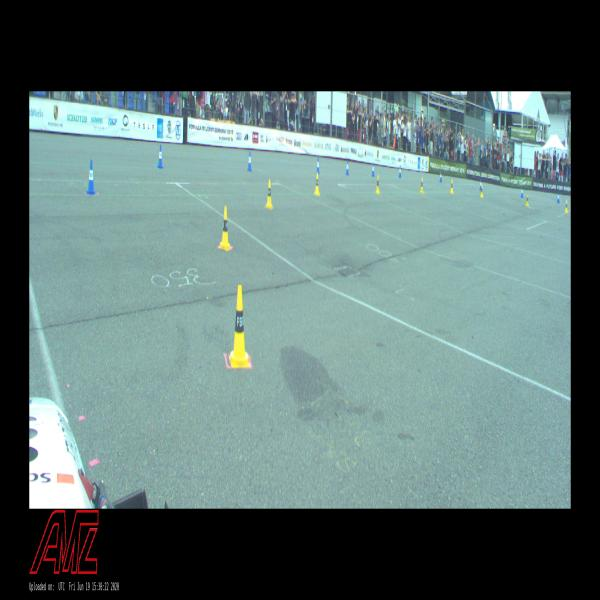blue_cone: (86, 160, 96, 195), (158, 145, 163, 168), (248, 152, 252, 172), (316, 157, 320, 174), (520, 186, 524, 198), (346, 160, 349, 175), (479, 179, 482, 190), (557, 192, 560, 203), (372, 162, 374, 177), (399, 165, 401, 178), (440, 171, 442, 182)
yellow_cone: (229, 285, 250, 368), (219, 206, 231, 250), (265, 179, 272, 209), (314, 172, 320, 195), (376, 175, 379, 194), (480, 184, 484, 198), (420, 177, 423, 193), (450, 179, 453, 193), (565, 200, 568, 213), (526, 194, 529, 206)
